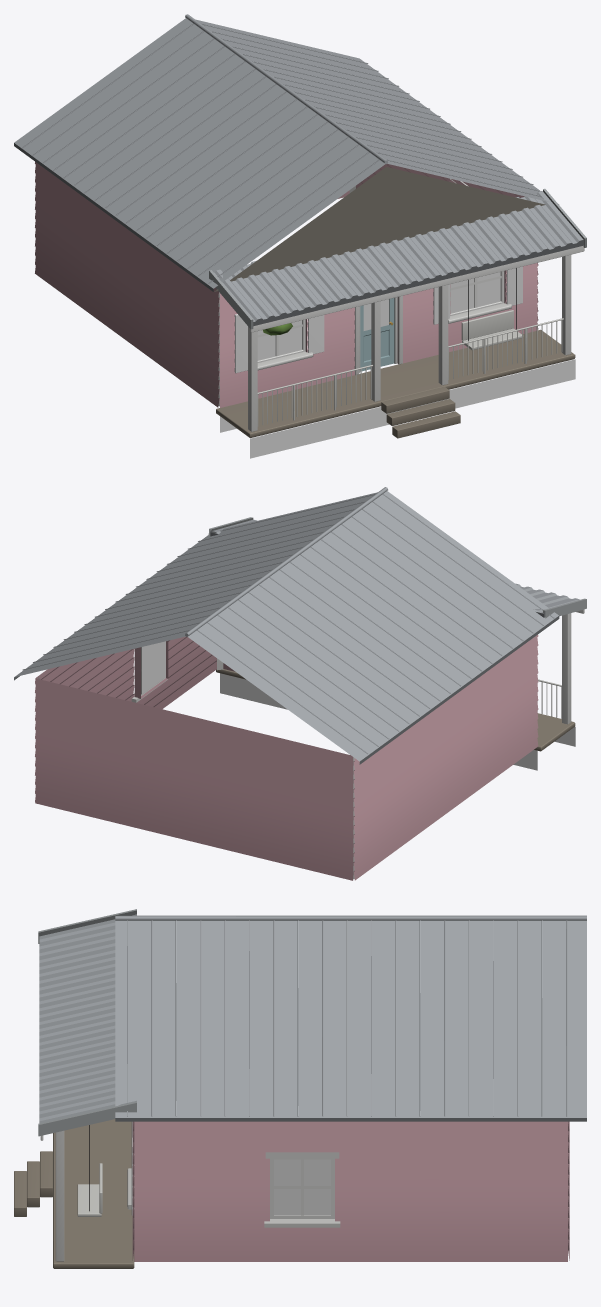
The model's file is CottageFL.fbx.
3 views of the same model, one above another, from view 1: azimuth 30°, elevation 25°; view 2: azimuth 150°, elevation 25°; view 3: azimuth 270°, elevation 25° (orthographic). The views are drawn at different scales.
Parts seen in each view (by area): view 1: CottageFL; view 2: CottageFL; view 3: CottageFL.
Part boxes in pixels (x1,y1,x2,y2): CottageFL: (14,14,586,458); CottageFL: (14,487,586,880); CottageFL: (14,909,586,1268).
Size of the model in its own units: 8.71 by 5.75 by 10.57.
